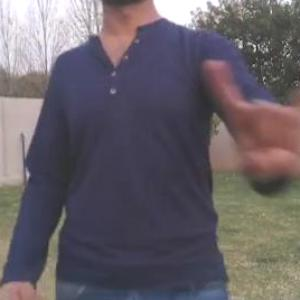takeoff-hand: (195, 46, 299, 197)
